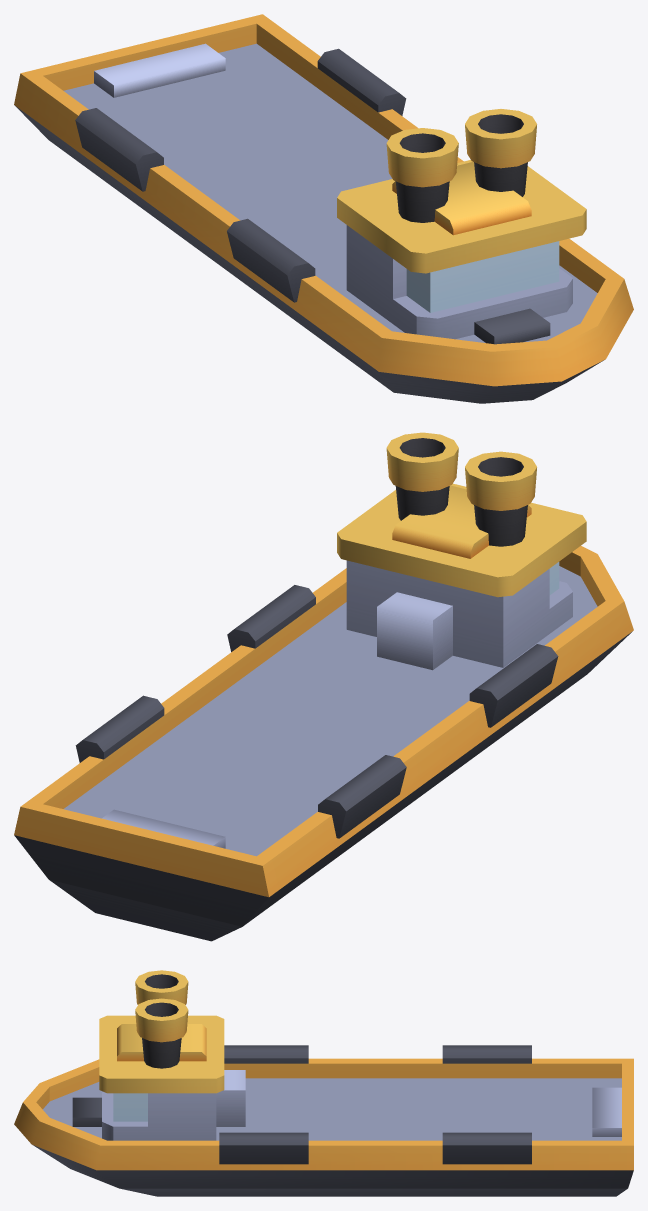
File: tanker.glb
3 renders of one model, top to bottom at view 1: azimuth 30°, elevation 25°; view 2: azimuth 150°, elevation 25°; view 3: azimuth 270°, elevation 25°, orthographic. The views are drawn at different scales.
Visible parts, largest first — view 1: tanker; view 2: tanker; view 3: tanker.
Boxes of the visible parts, box(x1,y1,x2,y2) form: tanker: box(14, 14, 633, 403); tanker: box(14, 432, 633, 941); tanker: box(14, 970, 633, 1196).
Bounding box in the file's own units: 1.29 × 1.11 × 3.47.
Materials: 1 (1 with a texture image).
